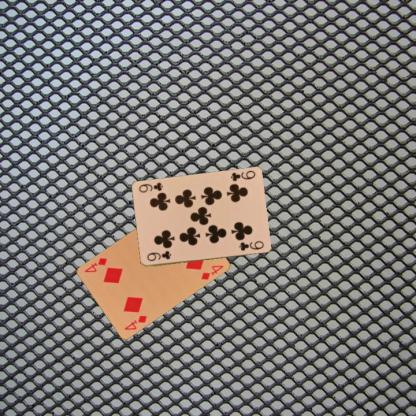4d: (122, 313, 148, 331)
9c: (228, 168, 257, 183), (144, 248, 172, 262)
